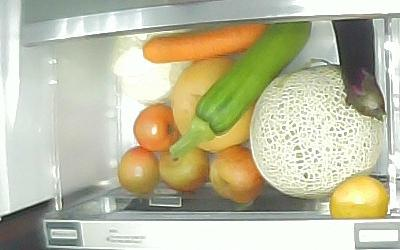carrot: (140, 23, 268, 63)
eggplant: (331, 18, 387, 121)
melon: (250, 62, 388, 201)
pear: (170, 58, 250, 152)
prune: (211, 145, 263, 205), (156, 140, 209, 194), (118, 146, 160, 198)
tangerine: (330, 174, 391, 218)
tomato: (133, 104, 183, 153)
zucchini: (170, 21, 313, 154)
